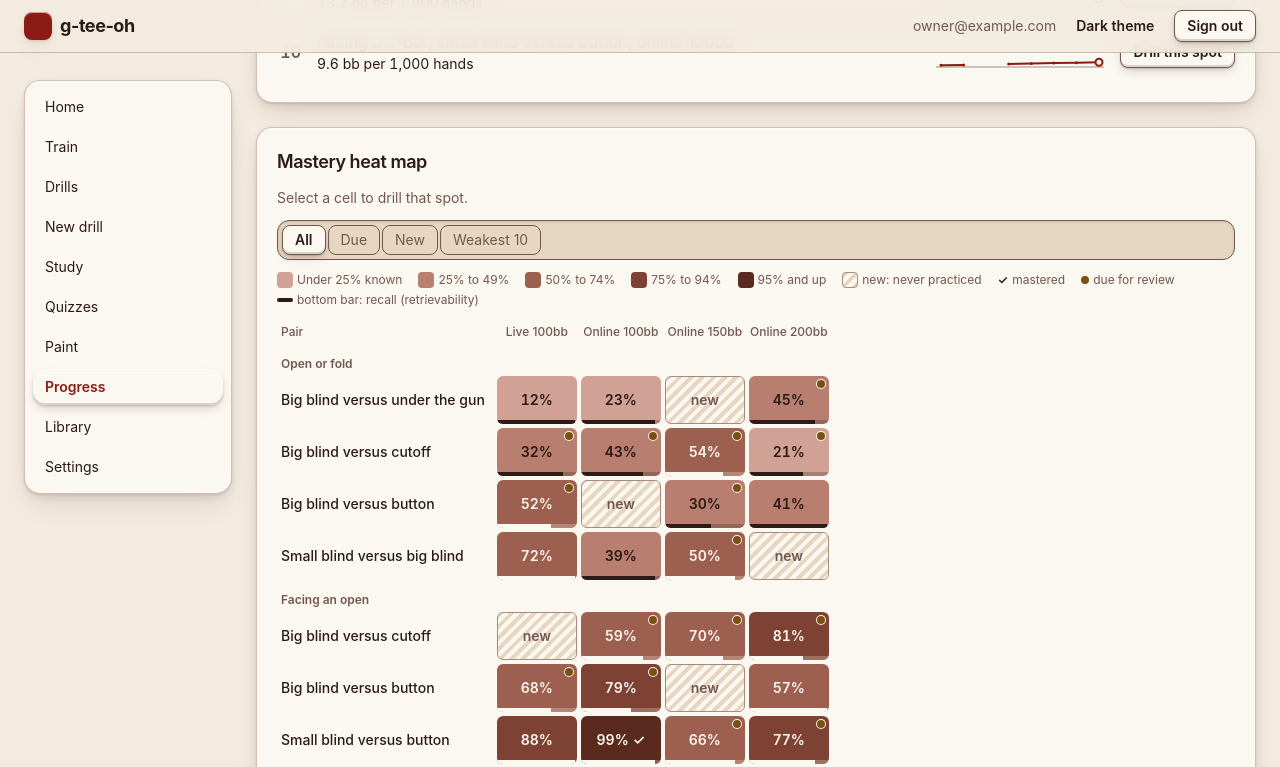
Test: R4.12 /progress › R4.12 a class no configuration covers says so in its card and creates nothing
(page scrolled)
Click the button with aria-label "Open or fold, big blind versus under the gun, online 150bb:". click: (705, 400)
box: [665,376,745,424]
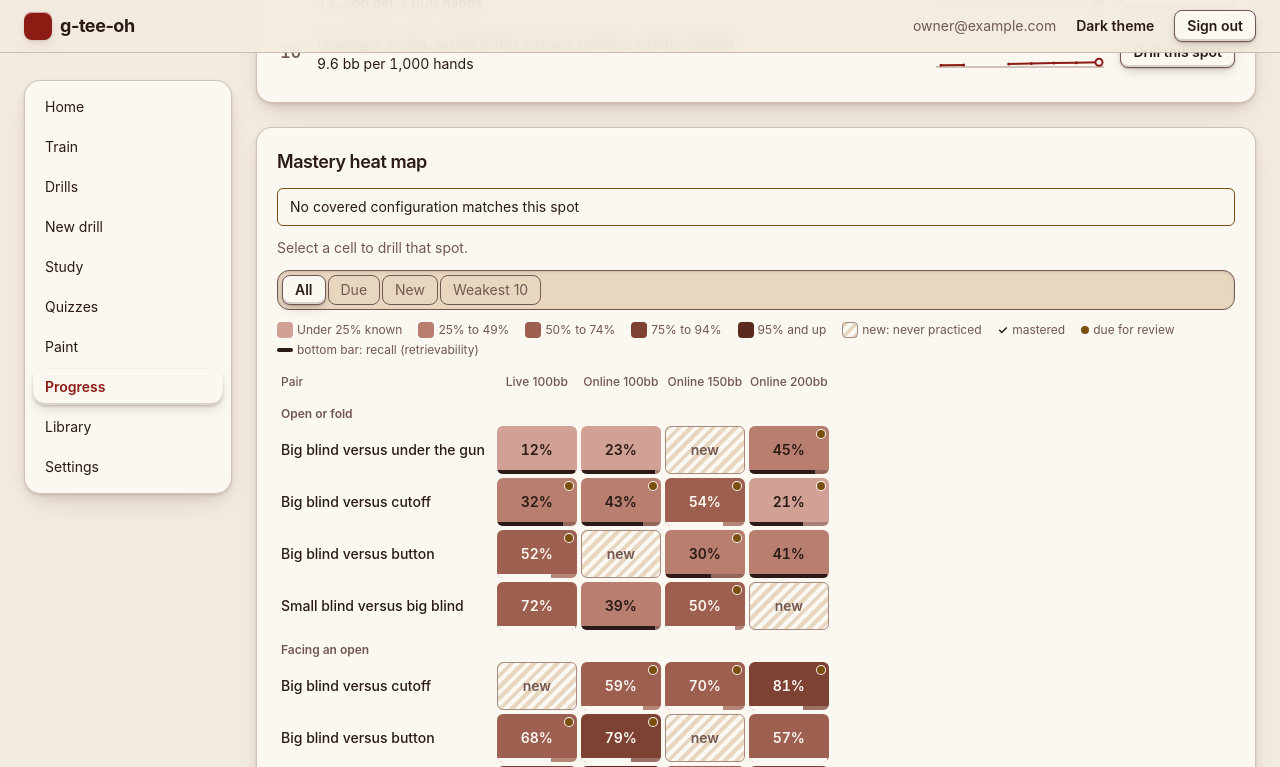
Now the message reads "No covered configuration matches this spot", box [290,198,579,215]
